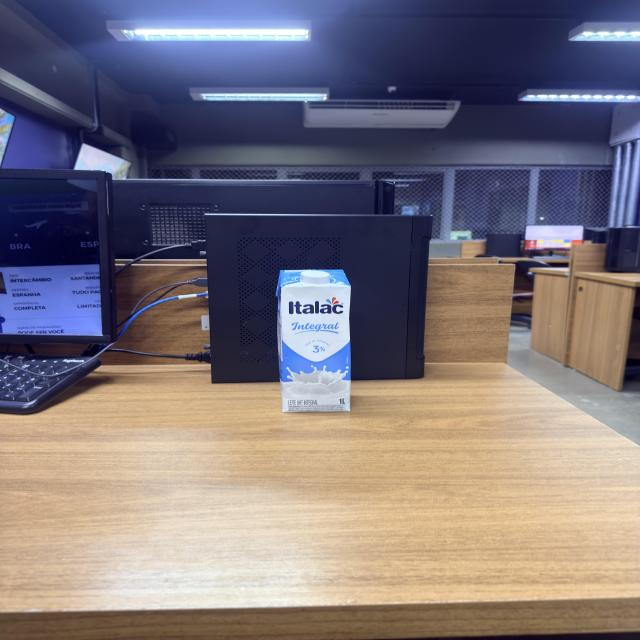Caixa de Leite: (275, 266, 353, 412)
